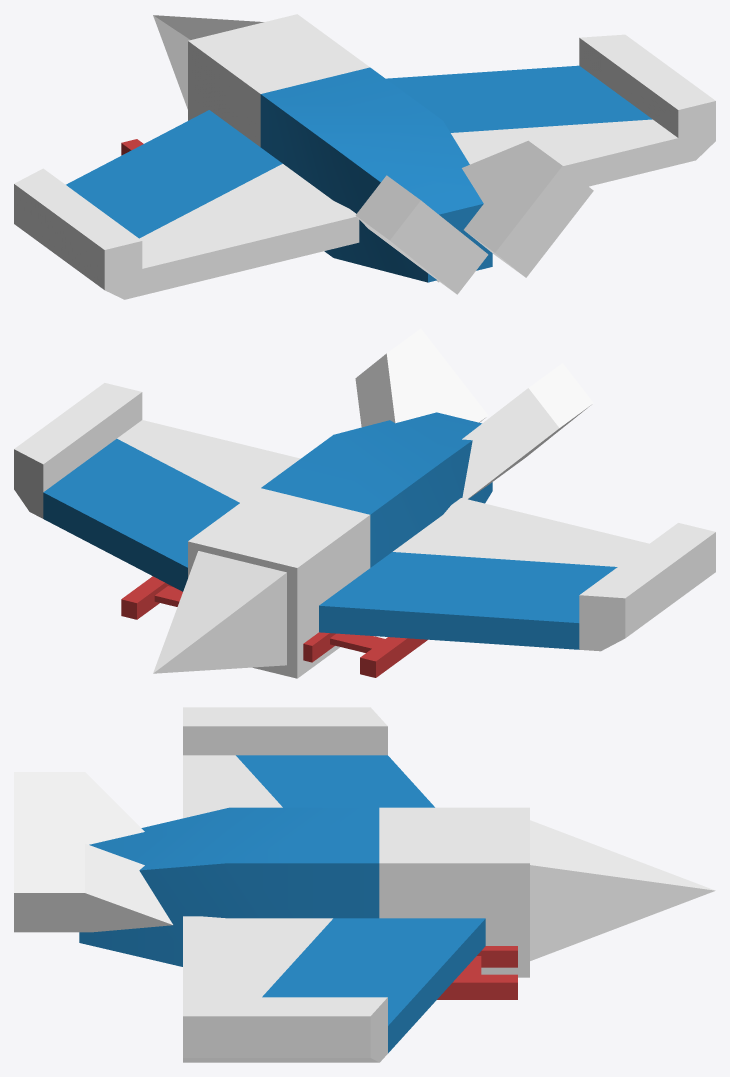
Rendered from simpleRocket.obj.
The picture shows the model from 3 angles, top to bottom: view 1: azimuth 30°, elevation 25°; view 2: azimuth 150°, elevation 25°; view 3: azimuth 270°, elevation 25°; orthographic projection. The views are drawn at different scales.
Visible parts, largest first — view 1: wind_endLow_1, engine_plane_0, wind_endLow_2, plane_rudder_3, plane_rudder_5, block_piramid_7; view 2: wind_endLow_1, engine_plane_0, wind_endLow_2, block_piramid_7, plane_rudder_3, plane_rudder_5, fence_woodGate_6; view 3: engine_plane_0, wind_endLow_2, wind_endLow_1, block_piramid_7, plane_rudder_3, plane_rudder_5, fence_woodGate_6.
Part boxes in pixels (x1,y1,x2,y2): wind_endLow_1: (14, 110, 359, 299); engine_plane_0: (188, 14, 492, 282); wind_endLow_2: (386, 34, 715, 186); plane_rudder_3: (462, 140, 593, 277); plane_rudder_5: (355, 175, 488, 294); block_piramid_7: (153, 15, 263, 109); wind_endLow_1: (319, 498, 715, 651); engine_plane_0: (188, 412, 492, 678); wind_endLow_2: (14, 383, 300, 591); block_piramid_7: (153, 551, 286, 673); plane_rudder_3: (355, 328, 488, 427); plane_rudder_5: (462, 363, 593, 499); fence_woodGate_6: (121, 576, 427, 677); engine_plane_0: (79, 807, 529, 977); wind_endLow_2: (183, 916, 485, 1062); wind_endLow_1: (183, 707, 434, 818); block_piramid_7: (530, 820, 715, 960); plane_rudder_3: (14, 843, 172, 932); plane_rudder_5: (14, 772, 144, 844); fence_woodGate_6: (437, 946, 517, 999).
Size of the model in its own units: 2.4 by 0.5156 by 2.3.
